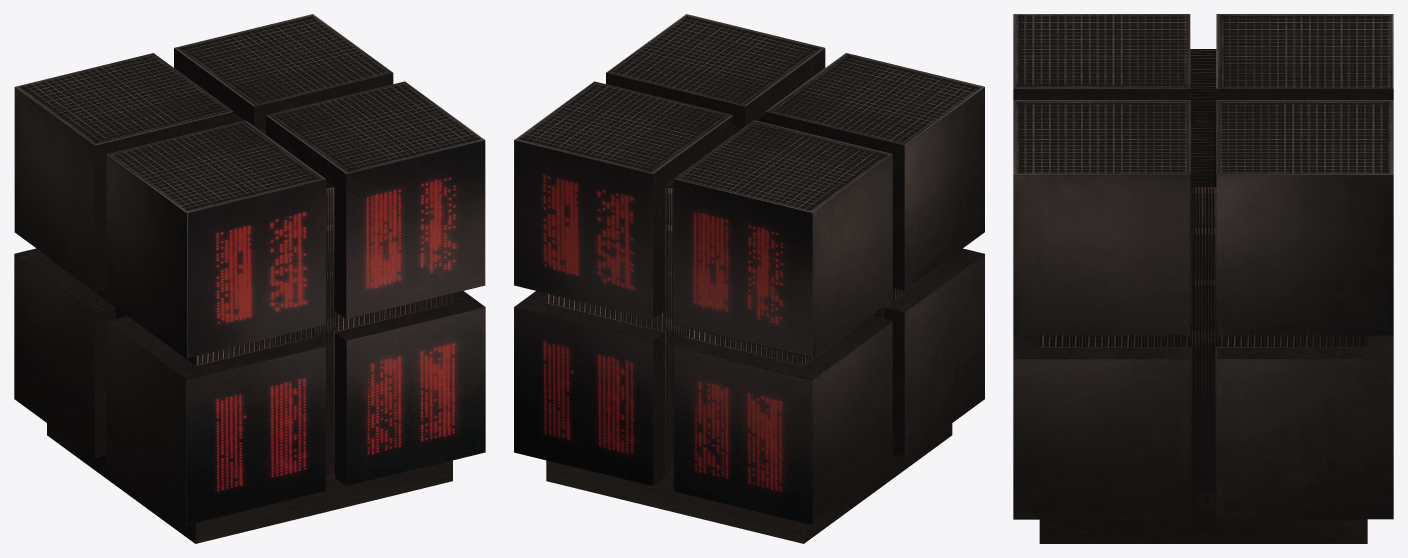
The model's file is cm-1_centeredZeroed.obj.
3 renders of one model, left to right at view 1: azimuth 30°, elevation 25°; view 2: azimuth 150°, elevation 25°; view 3: azimuth 270°, elevation 25°, orthographic. The views are drawn at different scales.
Parts seen in each view (by area): view 1: front_back, right_left, top4, top1, top2, top3, base, core, Box004, Box001, Box006, Box007 (+2 smaller); view 2: front_back, right_left, top4, top3, top2, top1, base, core, Box003, Box002, Box005, Box008 (+2 smaller); view 3: right_left, core, top4, top3, top2, top1, base, Box002, Box004, Box007, Box008.
Part boxes in pixels (x1=…): front_back: x1=186, y1=140, x2=485, y2=525; right_left: x1=14, y1=87, x2=186, y2=524; top4: x1=266, y1=81, x2=484, y2=173; top1: x1=15, y1=53, x2=233, y2=145; top2: x1=174, y1=14, x2=392, y2=106; top3: x1=107, y1=120, x2=325, y2=212; base: x1=47, y1=423, x2=452, y2=543; core: x1=47, y1=113, x2=452, y2=479; Box004: x1=334, y1=291, x2=484, y2=485; Box001: x1=15, y1=248, x2=115, y2=457; Box006: x1=174, y1=48, x2=393, y2=127; Box007: x1=94, y1=111, x2=233, y2=290; front_back: x1=514, y1=140, x2=812, y2=525; right_left: x1=812, y1=87, x2=984, y2=524; top4: x1=606, y1=14, x2=824, y2=106; top3: x1=766, y1=53, x2=984, y2=145; top2: x1=514, y1=81, x2=732, y2=173; top1: x1=674, y1=120, x2=892, y2=212; base: x1=546, y1=423, x2=952, y2=543; core: x1=546, y1=113, x2=952, y2=479; Box003: x1=884, y1=248, x2=984, y2=457; Box002: x1=514, y1=291, x2=664, y2=485; Box005: x1=606, y1=48, x2=825, y2=127; Box008: x1=765, y1=111, x2=904, y2=290; right_left: x1=1013, y1=174, x2=1393, y2=519; core: x1=1039, y1=49, x2=1367, y2=508; top4: x1=1013, y1=100, x2=1190, y2=174; top3: x1=1013, y1=14, x2=1190, y2=88; top2: x1=1216, y1=100, x2=1393, y2=174; top1: x1=1216, y1=14, x2=1393, y2=88; base: x1=1039, y1=508, x2=1367, y2=543; Box002: x1=1216, y1=335, x2=1393, y2=358; Box004: x1=1013, y1=335, x2=1190, y2=358; Box007: x1=1216, y1=88, x2=1393, y2=99; Box008: x1=1013, y1=88, x2=1190, y2=99.
Bounding box in the file's own units: 1.45 × 1.6 × 1.45.
